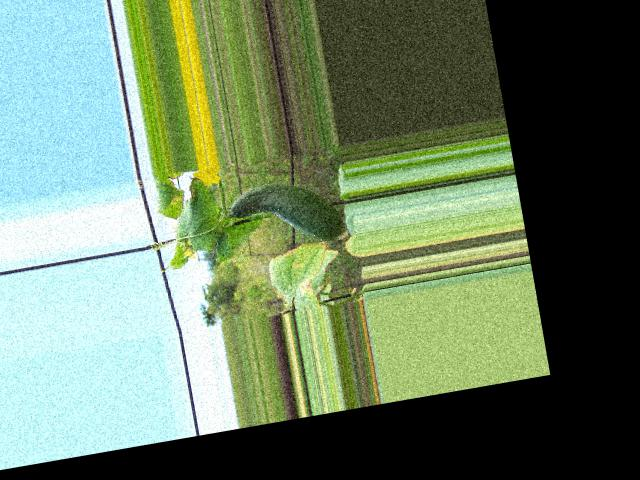cucumber: (226, 173, 345, 257)
